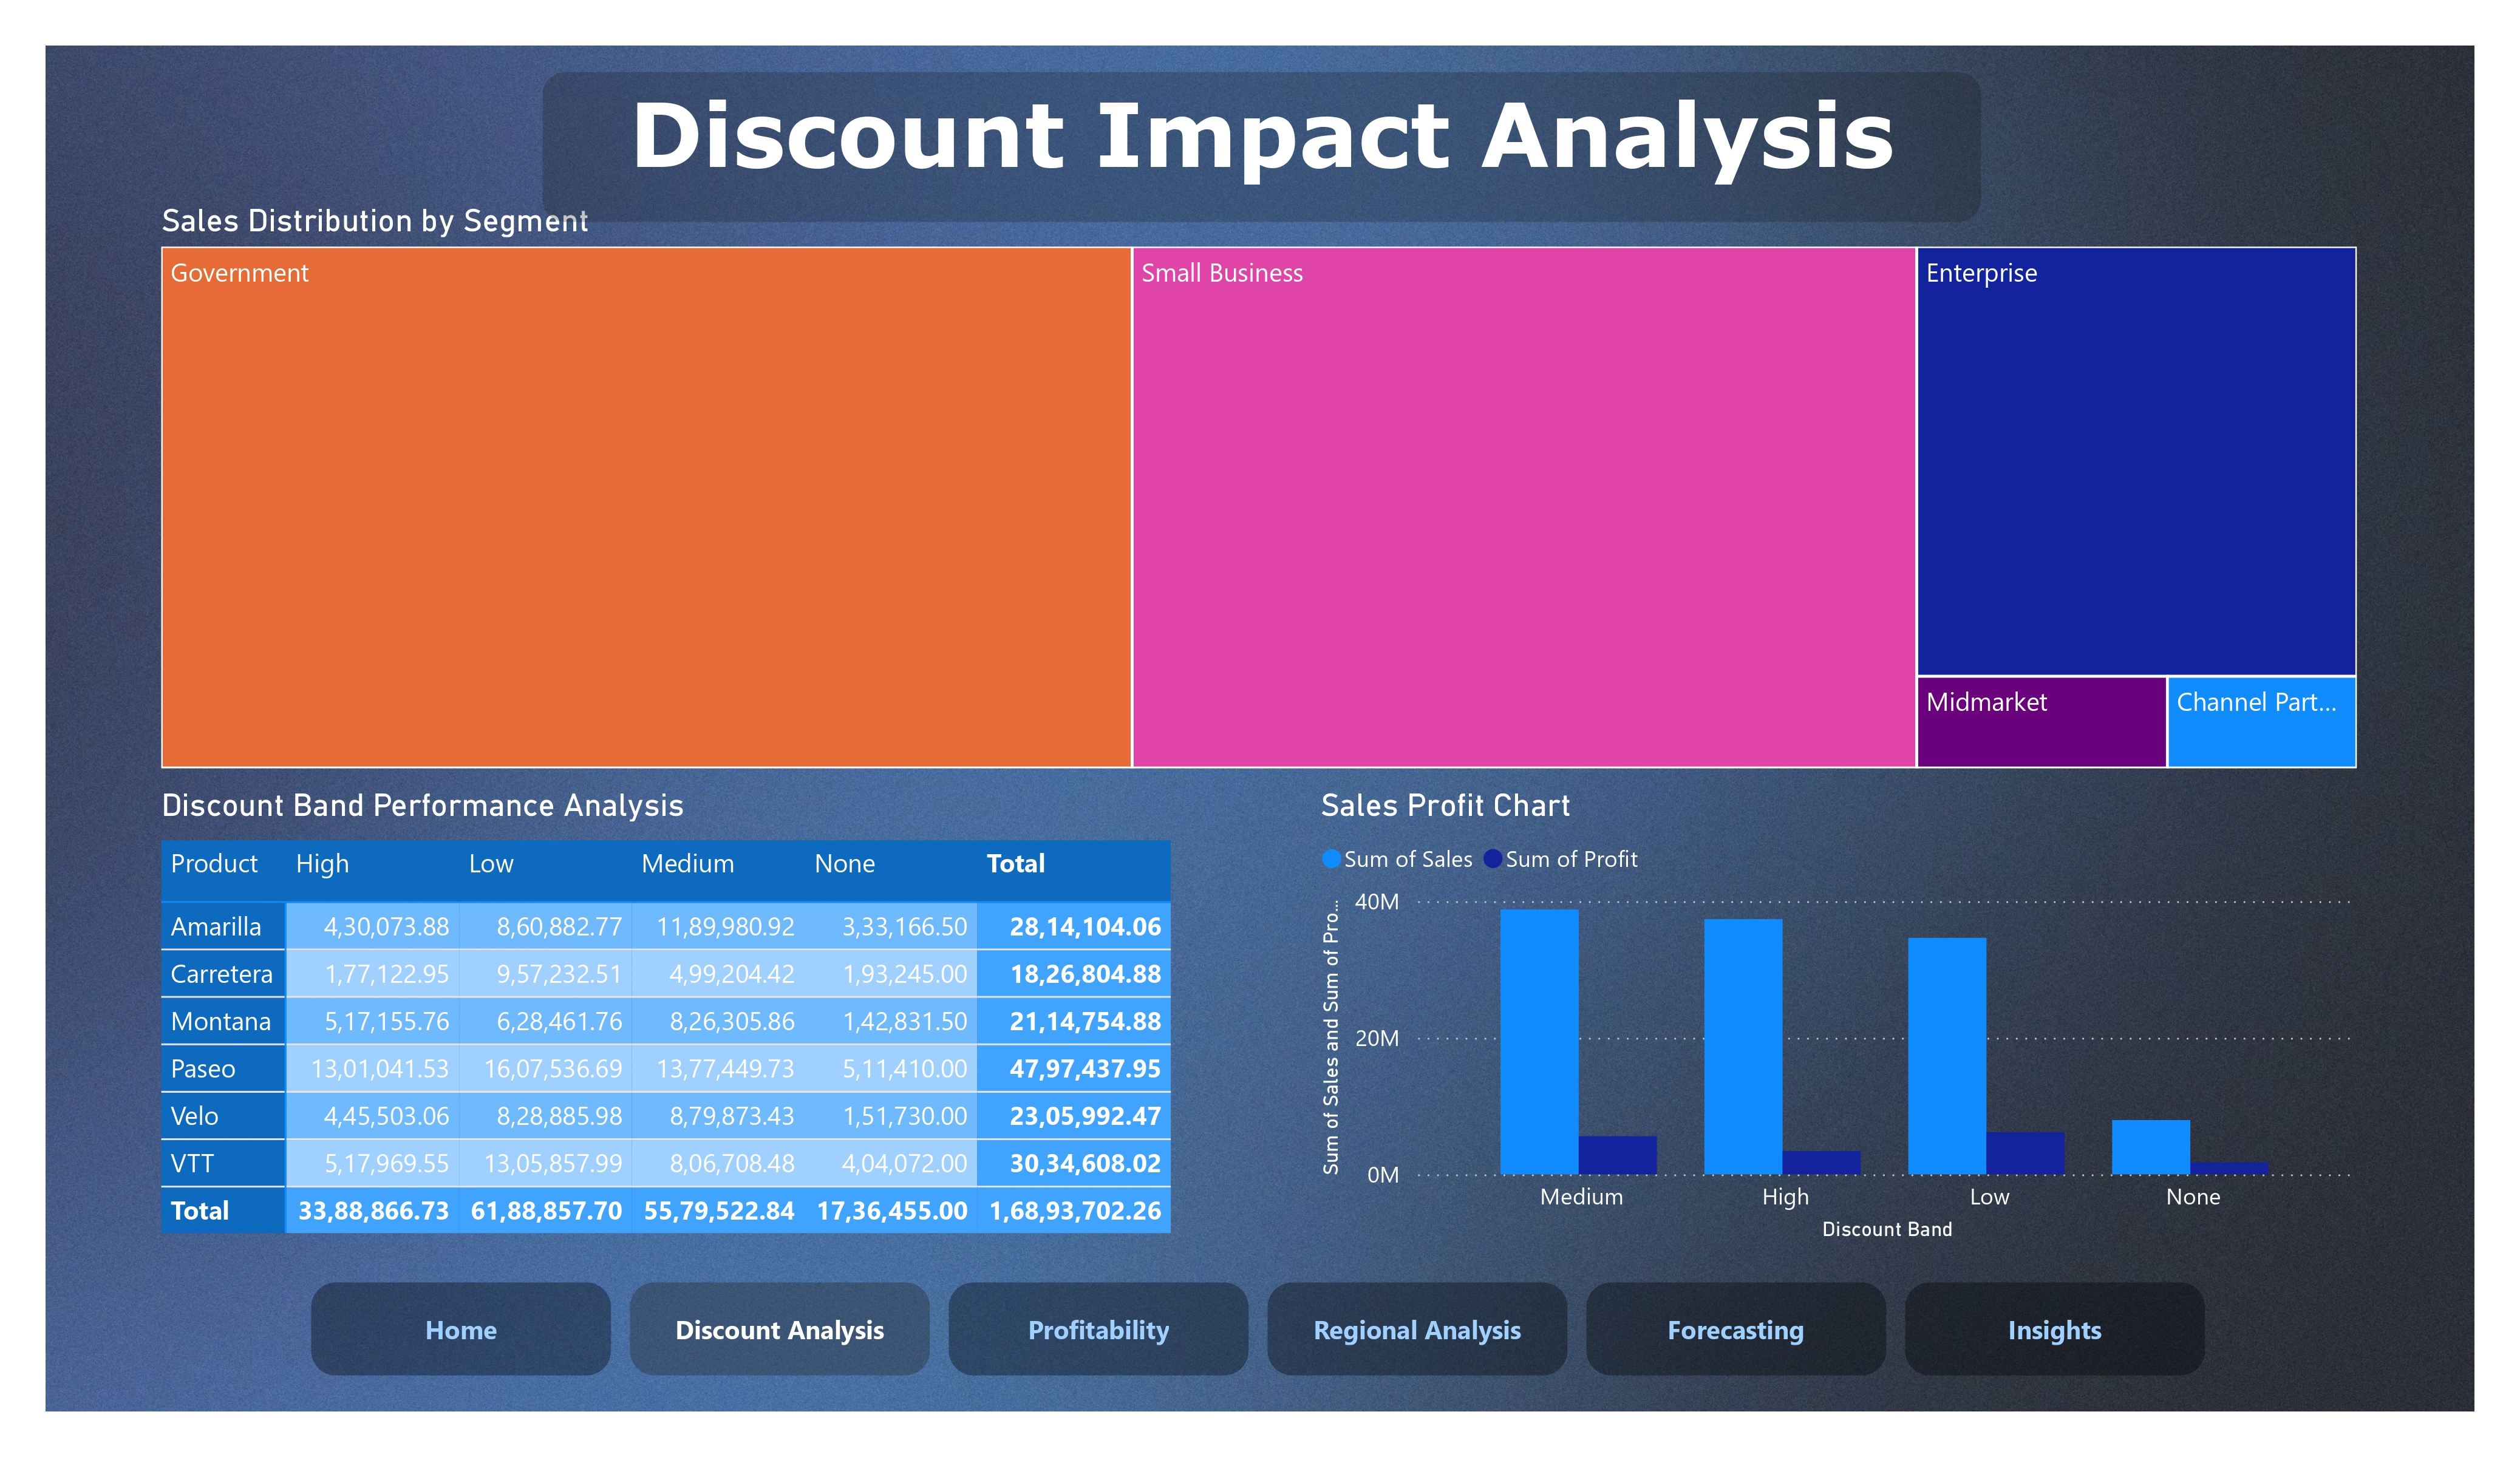

The page's visual inventory and layout, read from the dashboard file:
{"tool":"powerbi","page":{"name":"Discount Analysis","canvas":[1280,720],"ordinal":1},"visuals":[{"type":"clusteredColumnChart","title":"Sales Profit Chart","fields":{"Category":["financials.Discount Band"],"Y":["Sum(financials.Sales)","Sum(financials.Profit)"]},"box":[666.9,389.7,555.7,245.6],"z":0},{"type":"pivotTable","title":"Discount Band Performance Analysis","fields":{"Rows":["financials.Product"],"Columns":["financials.Discount Band"],"Values":["Sum(financials.Profit)"]},"box":[56.3,389.7,554.4,245.6],"z":1000},{"type":"treemap","title":"Sales Distribution by Segment","fields":{"Values":["Sum(financials.Sales)"],"Group":["financials.Segment"]},"box":[56.3,82.3,1166.4,303.3],"z":2000},{"type":"shape","box":[262.1,13.7,757.5,79.6],"z":3000},{"type":"pageNavigator","box":[140,651.8,1000.3,49.4],"z":4000}]}

Visuals, with their boxes on the page's 1280x720 design canvas (x1, y1, x2, y2). These are canvas units, not pixel positions in the 2520x1457 screenshot, which may show the page scaled, cropped or inside an application window:
"Sales Profit Chart" clusteredColumnChart: {"x1": 667, "y1": 390, "x2": 1223, "y2": 635}
"Discount Band Performance Analysis" pivotTable: {"x1": 56, "y1": 390, "x2": 611, "y2": 635}
"Sales Distribution by Segment" treemap: {"x1": 56, "y1": 82, "x2": 1223, "y2": 386}
shape: {"x1": 262, "y1": 14, "x2": 1020, "y2": 93}
pageNavigator: {"x1": 140, "y1": 652, "x2": 1140, "y2": 701}
